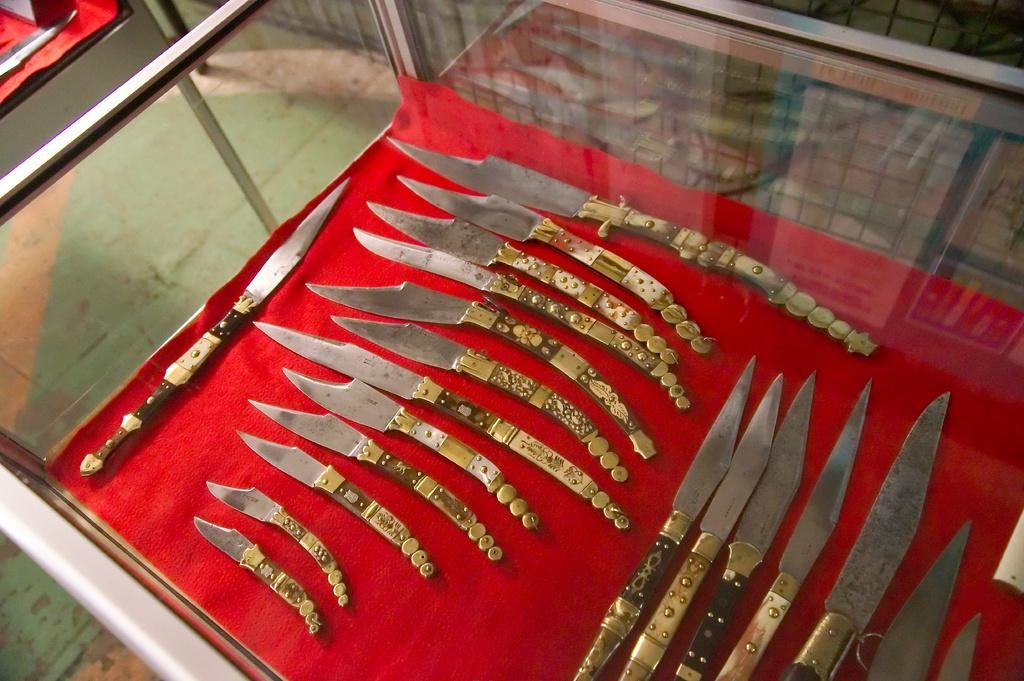Knife: (49, 135, 881, 680), (572, 353, 971, 680)
